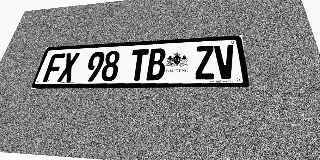8: (100, 50, 122, 81)
9: (84, 51, 106, 81)
B: (146, 48, 166, 80)
F: (42, 53, 66, 82)
T: (128, 49, 149, 81)
V: (214, 45, 237, 79)
X: (57, 53, 80, 82)
Z: (195, 46, 215, 79)
